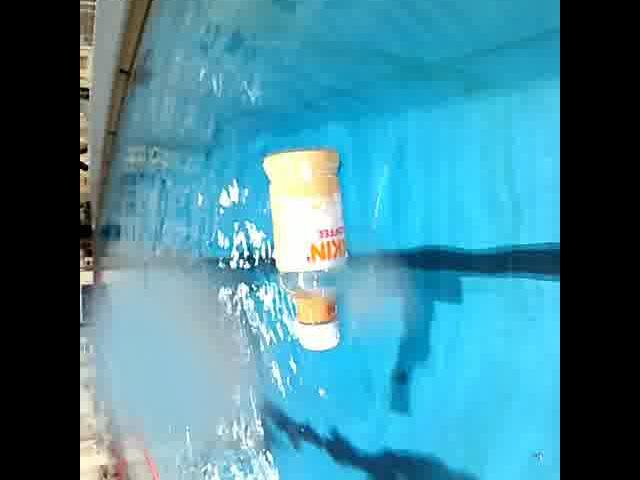Bottle: (258, 140, 356, 358)
